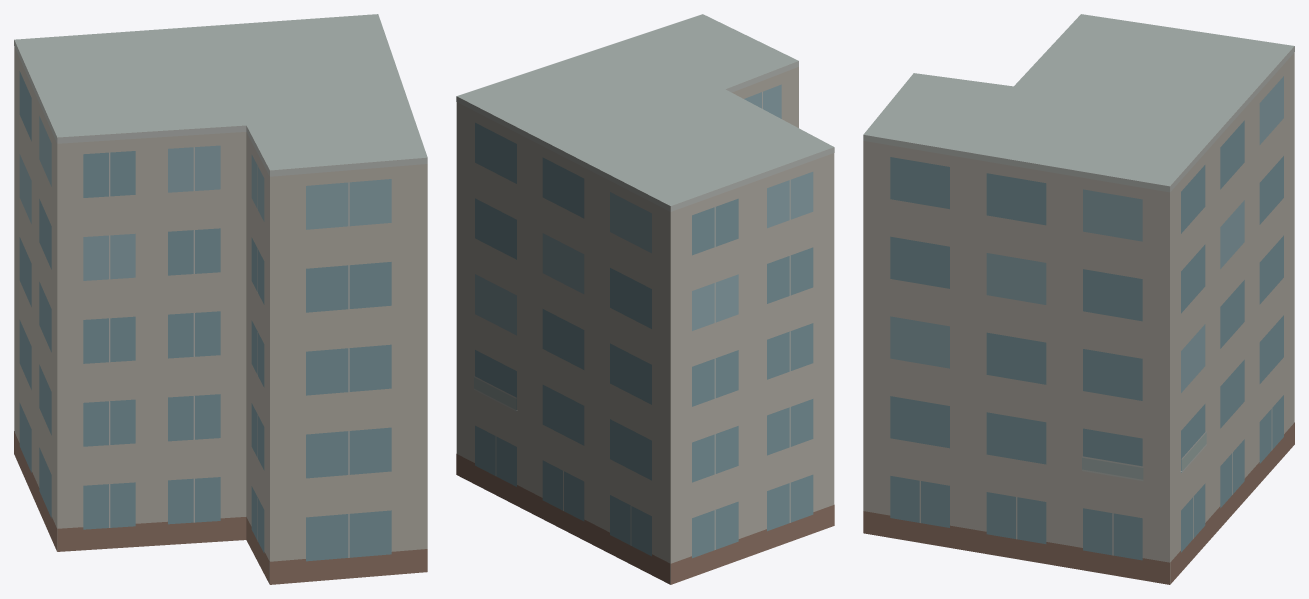
File: survey-upis-32872708.glb
The picture shows the model from 3 angles, left to right: view 1: azimuth 30°, elevation 25°; view 2: azimuth 150°, elevation 25°; view 3: azimuth 270°, elevation 25°; orthographic projection. The views are drawn at different scales.
Visible parts, largest first — view 1: survey-upis-32872708.tmp; view 2: survey-upis-32872708.tmp; view 3: survey-upis-32872708.tmp.
Boxes of the visible parts, bbox=[...] form: survey-upis-32872708.tmp: bbox=[14, 14, 427, 584]; survey-upis-32872708.tmp: bbox=[456, 14, 834, 584]; survey-upis-32872708.tmp: bbox=[863, 14, 1294, 584].
Size of the model in its own units: 14.9 by 16.05 by 15.76.
